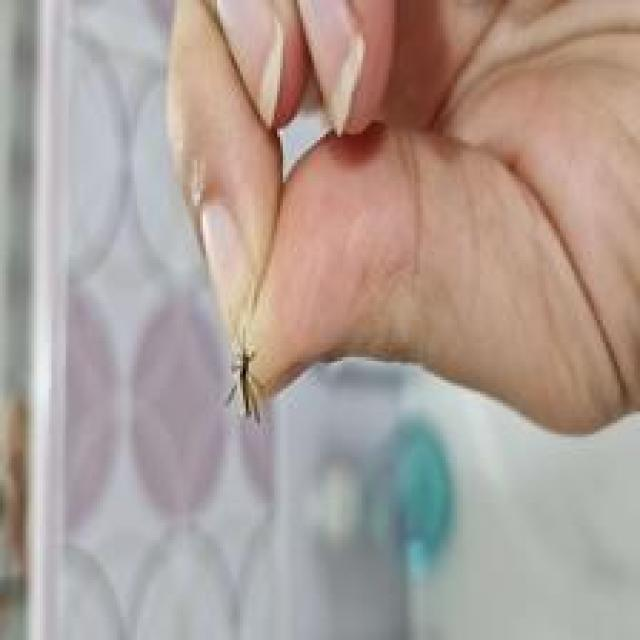Aedes albopictus: (223, 327, 266, 424)
